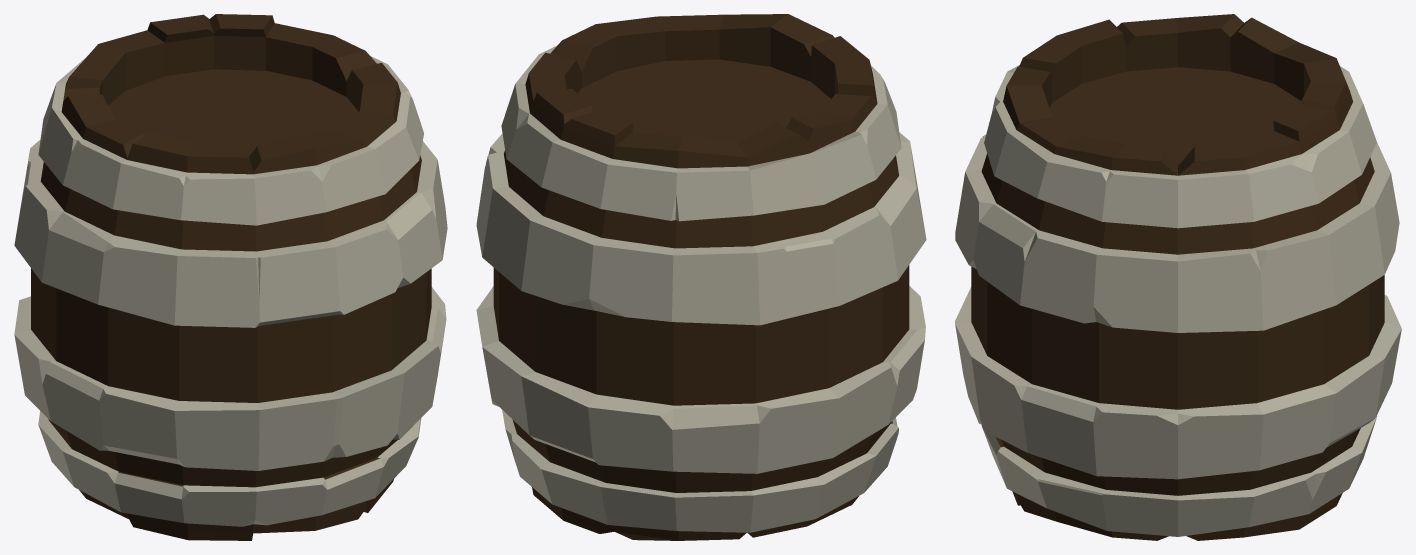
The model's file is Barrel1.fbx.
3 renders of one model, left to right at view 1: azimuth 30°, elevation 25°; view 2: azimuth 150°, elevation 25°; view 3: azimuth 270°, elevation 25°, orthographic. The views are drawn at different scales.
Visible parts, largest first — view 1: Cylinder; view 2: Cylinder; view 3: Cylinder.
Part boxes in pixels (x1,y1,x2,y2): Cylinder: (14, 14, 447, 540); Cylinder: (476, 14, 926, 540); Cylinder: (955, 14, 1401, 540).
Bounding box in the file's own units: 228 × 225 × 228.
